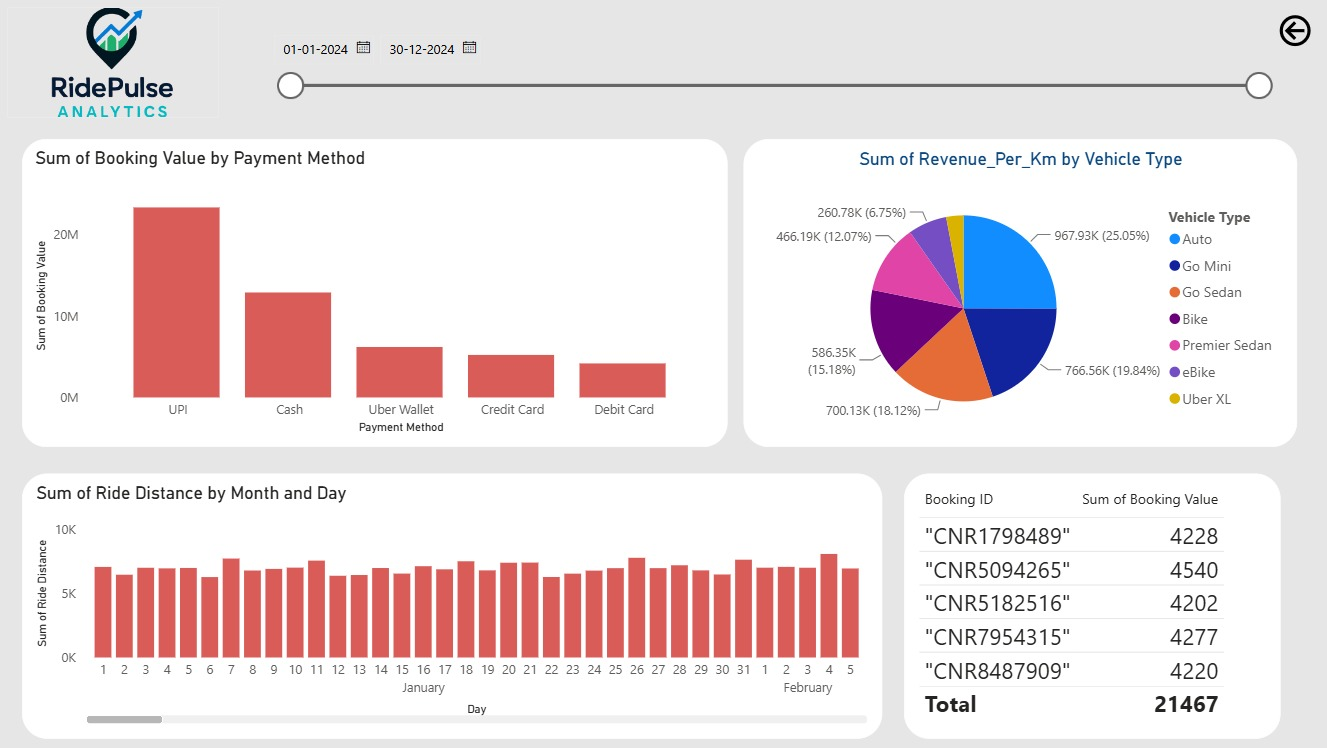

The dashboard page shown, as its layout file describes it:
{"tool":"powerbi","page":{"name":"Revenue","canvas":[1280,720],"ordinal":3},"visuals":[{"type":"columnChart","fields":{"Category":["rideBookings.Date.Variation.Date Hierarchy.Month","rideBookings.Date.Variation.Date Hierarchy.Day"],"Y":["Sum(rideBookings.Ride Distance)"]},"box":[25.6,455.1,819.2,252.6],"z":0},{"type":"columnChart","fields":{"Category":["rideBookings.Payment Method"],"Y":["Sum(rideBookings.Booking Value)"]},"box":[25.6,137.2,671.7,293.1],"z":1000},{"type":"slicer","fields":{"Values":["rideBookings.Date"]},"box":[252.6,28.2,971.8,88.5],"z":2000},{"type":"tableEx","fields":{"Values":["rideBookings.Booking ID","Sum(rideBookings.Booking Value)"]},"box":[865.4,455.1,359,252.6],"z":3000},{"type":"image","box":[11.5,11.5,201.3,105.1],"z":4000},{"type":"pieChart","fields":{"Y":["Sum(rideBookings.Revenue_Per_Km)"],"Category":["rideBookings.Vehicle Type"]},"box":[712.8,137.2,527,293],"z":5000},{"type":"actionButton","box":[1218,13.6,48.4,39.3],"z":5001}]}

Visuals, with their boxes in screenshot pixels (x1, y1, x2, y2), scaled from the page's 1280x720 canvas onto the 1327x748 screenshot:
columnChart - rideBookings.Date.Variation.Date Hierarchy.Month x rideBookings.Date.Variation.Date Hierarchy.Day: region(27, 473, 876, 735)
columnChart - rideBookings.Payment Method x Sum(rideBookings.Booking Value): region(27, 143, 723, 447)
slicer - rideBookings.Date: region(262, 29, 1269, 121)
tableEx - rideBookings.Booking ID x Sum(rideBookings.Booking Value): region(897, 473, 1269, 735)
image: region(12, 12, 221, 121)
pieChart - Sum(rideBookings.Revenue_Per_Km) x rideBookings.Vehicle Type: region(739, 143, 1285, 447)
actionButton: region(1263, 14, 1313, 55)
